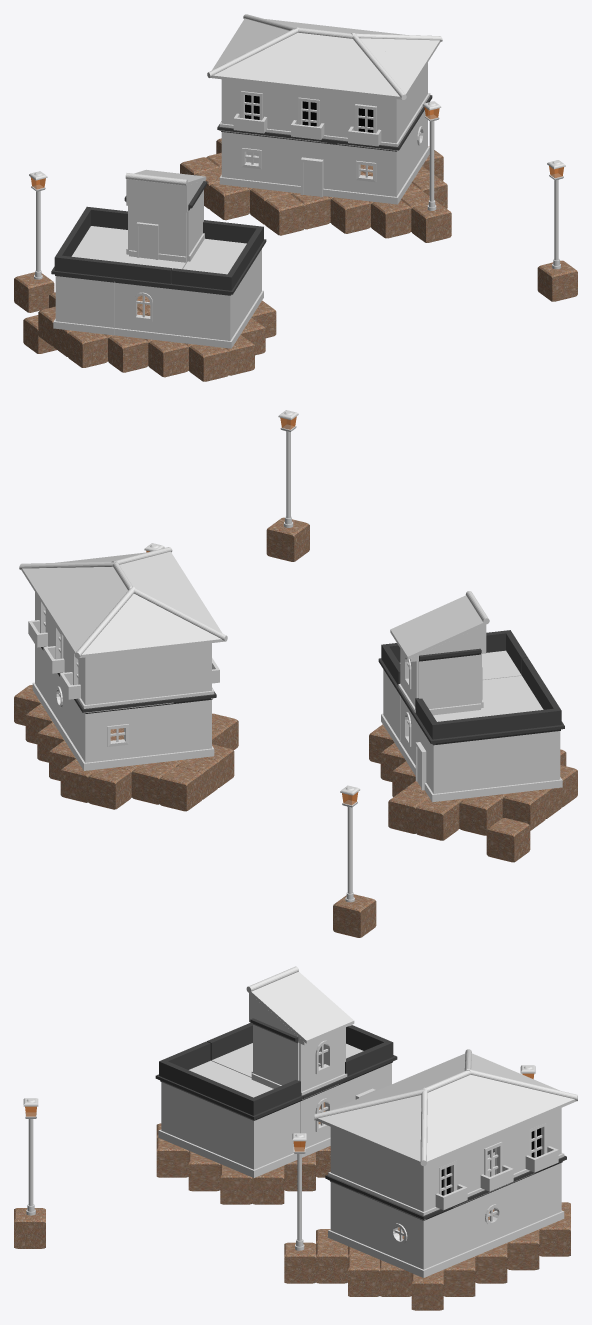
The model's file is CascadeEnv.fbx.
3 renders of one model, top to bottom at view 1: azimuth 30°, elevation 25°; view 2: azimuth 150°, elevation 25°; view 3: azimuth 270°, elevation 25°, orthographic. The views are drawn at different scales.
Parts seen in each view (by area): view 1: 12_UF_Corner.121, 12_UF_Corner.110, 14_R_Center.116, 12_UF_Corner.120, 14_R_Center.117, 12_UF_Corner.113, 02_GF_Wall.142, 14_R_Center.115, 02_GF_Wall.126, 12_UF_Corner.111, 02_GF_Wall.128, 15_R_Corner.041 (+43 smaller); view 2: 12_UF_Corner.116, 12_UF_Corner.119, 14_R_Center.116, 12_UF_Corner.120, 14_R_Center.119, 12_UF_Corner.113, 02_GF_Wall.139, 12_UF_Corner.117, 14_R_Center.115, 12_UF_Corner.112, 14_R_Center.120, 15_R_Corner.043 (+33 smaller); view 3: 12_UF_Corner.114, 12_UF_Corner.118, 14_R_Center.116, 14_R_Center.118, 14_R_Center.120, 12_UF_Corner.115, 12_UF_Corner.110, 12_UF_Corner.121, 12_UF_Corner.116, 14_R_Center.119, 14_R_Center.117, 10_UF_Windowed.013 (+32 smaller).
Boxes of the visible parts, x1,y1,x2,y2 form: 12_UF_Corner.121: [170, 265, 249, 348]; 12_UF_Corner.110: [336, 121, 415, 204]; 14_R_Center.116: [278, 24, 371, 91]; 12_UF_Corner.120: [51, 266, 114, 335]; 14_R_Center.117: [335, 33, 422, 99]; 12_UF_Corner.113: [217, 121, 280, 191]; 02_GF_Wall.142: [114, 277, 171, 341]; 14_R_Center.115: [207, 27, 298, 85]; 02_GF_Wall.126: [280, 86, 337, 142]; 12_UF_Corner.111: [337, 87, 413, 150]; 02_GF_Wall.128: [279, 133, 337, 197]; 15_R_Corner.041: [190, 220, 263, 266]; 12_UF_Corner.116: [66, 698, 149, 770]; 12_UF_Corner.119: [413, 712, 497, 802]; 14_R_Center.116: [41, 562, 205, 626]; 12_UF_Corner.120: [497, 721, 564, 794]; 14_R_Center.119: [57, 586, 151, 658]; 12_UF_Corner.113: [148, 688, 216, 763]; 02_GF_Wall.139: [418, 648, 481, 715]; 12_UF_Corner.117: [68, 646, 148, 713]; 14_R_Center.115: [129, 586, 227, 649]; 12_UF_Corner.112: [148, 643, 214, 705]; 14_R_Center.120: [390, 591, 489, 659]; 15_R_Corner.043: [481, 683, 561, 732]; 12_UF_Corner.114: [374, 1196, 472, 1277]; 12_UF_Corner.118: [205, 1095, 303, 1177]; 14_R_Center.116: [370, 1070, 523, 1142]; 14_R_Center.118: [369, 1087, 478, 1166]; 14_R_Center.120: [246, 966, 354, 1043]; 12_UF_Corner.115: [376, 1146, 471, 1220]; 12_UF_Corner.110: [325, 1174, 377, 1257]; 12_UF_Corner.121: [155, 1074, 207, 1157]; 12_UF_Corner.116: [515, 1155, 566, 1238]; 14_R_Center.119: [467, 1068, 577, 1123]; 14_R_Center.117: [314, 1088, 425, 1142]; 10_UF_Windowed.013: [470, 1177, 517, 1257].
Bounding box in the file's own units: 1749 × 901 × 1769.
12 materials, 2 textured.
